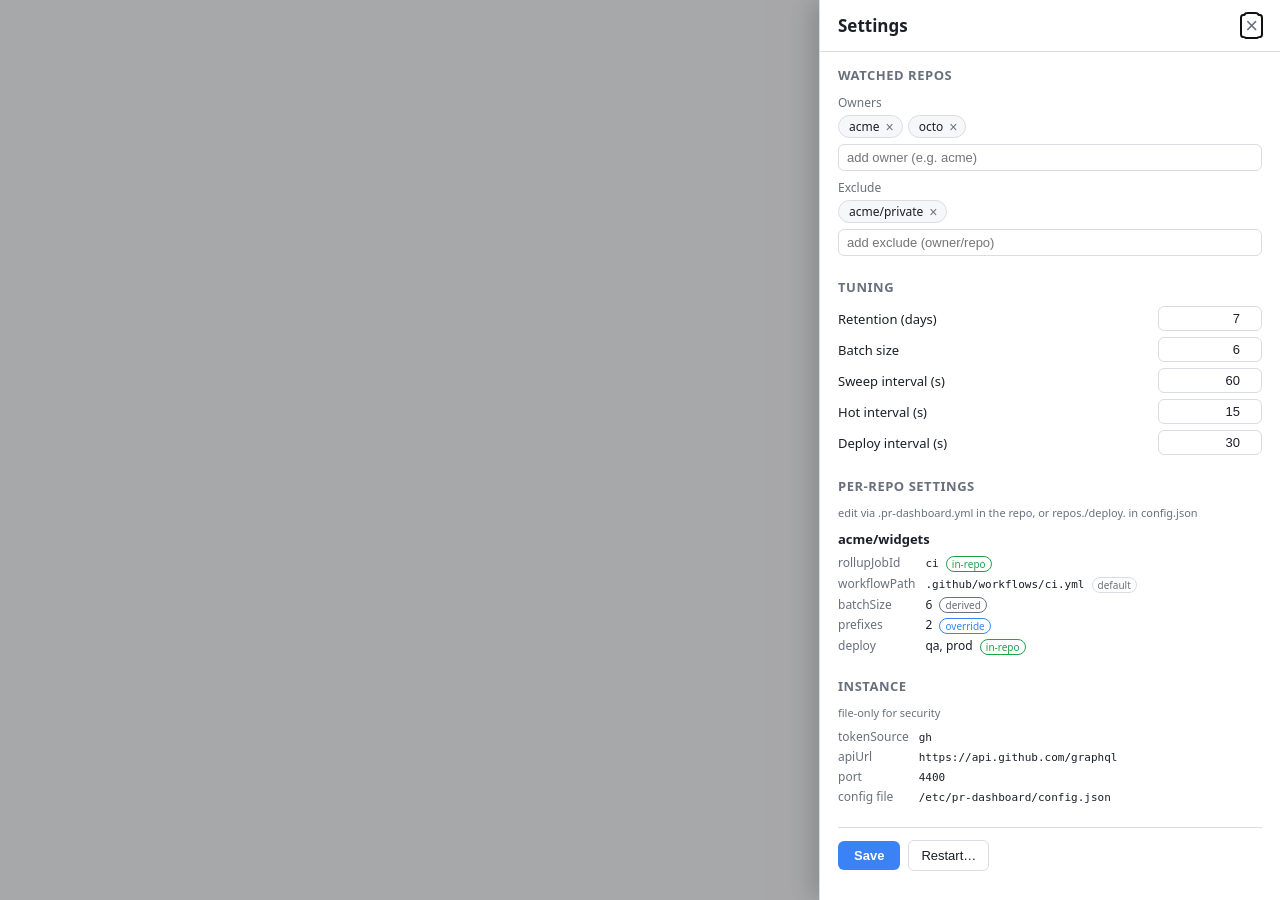
Test case: SettingsPanel › disables Save with a hint when owners list is empty
The image size is (1280, 900).
Expected: the text "acme" is shown, [849,118,880,135]
Click the button named "remove owner" at (890, 126), box [884,120,896,134]
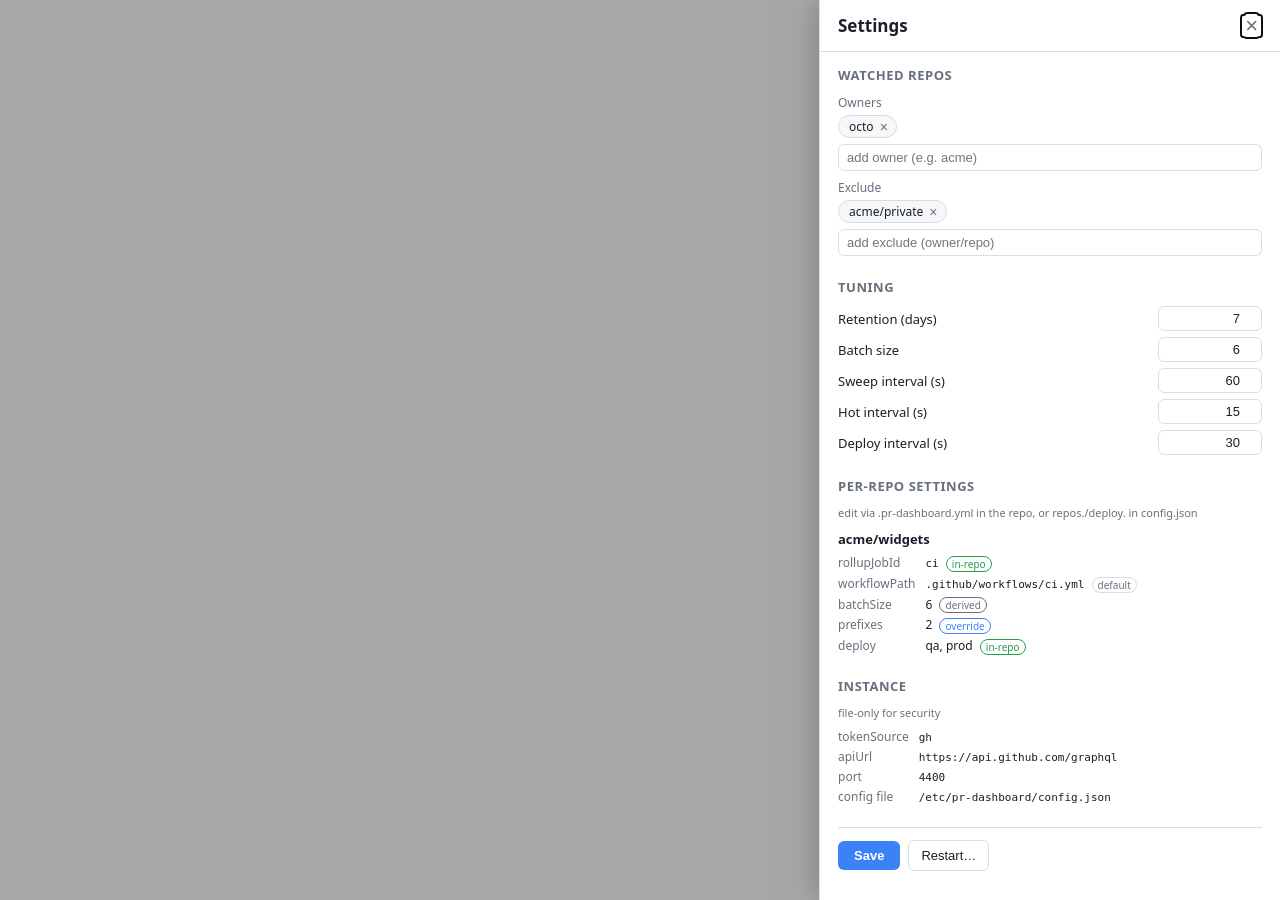
Click the button named "remove owner" at (884, 126), box [878,120,890,134]
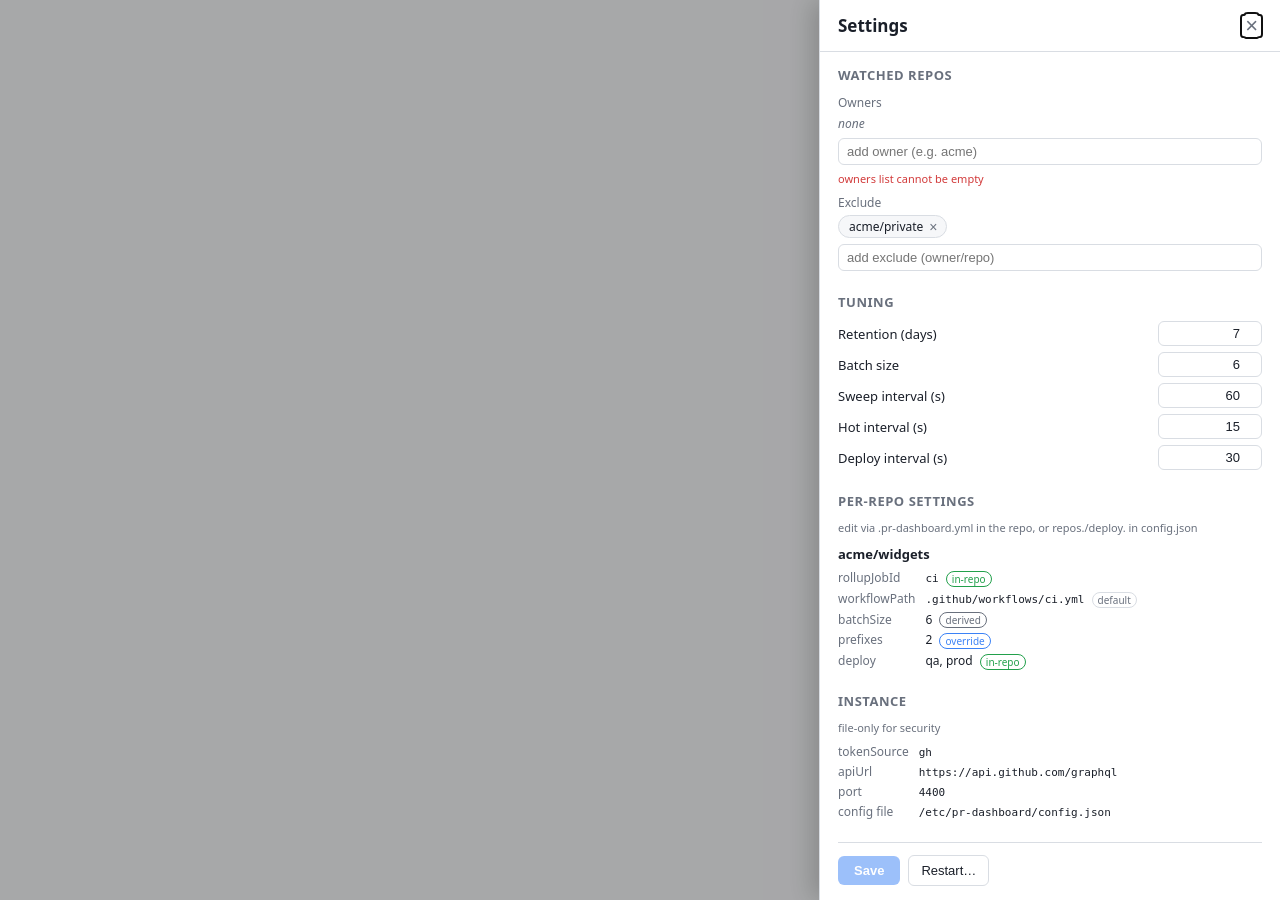
Result: the button "Save" is disabled at [838,856,900,885]
Result: the text "owners list cannot be empty" is shown at [838,171,984,186]
